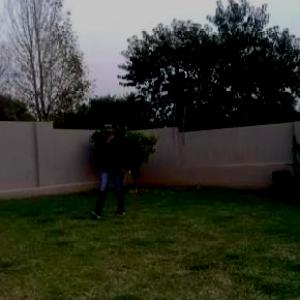follow: (96, 116, 132, 227)
